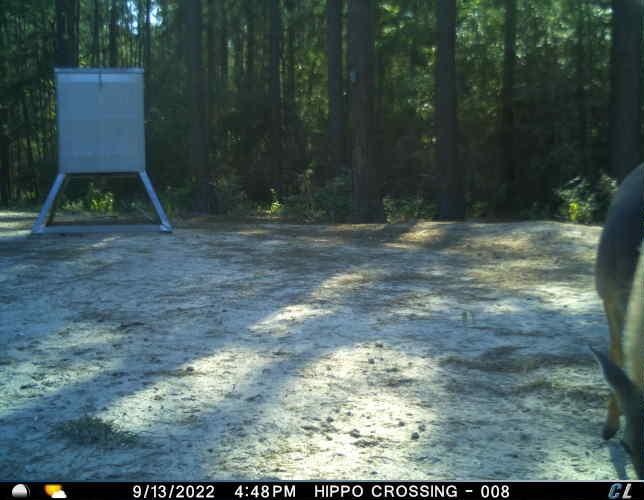Deer: (593, 152, 644, 482)
